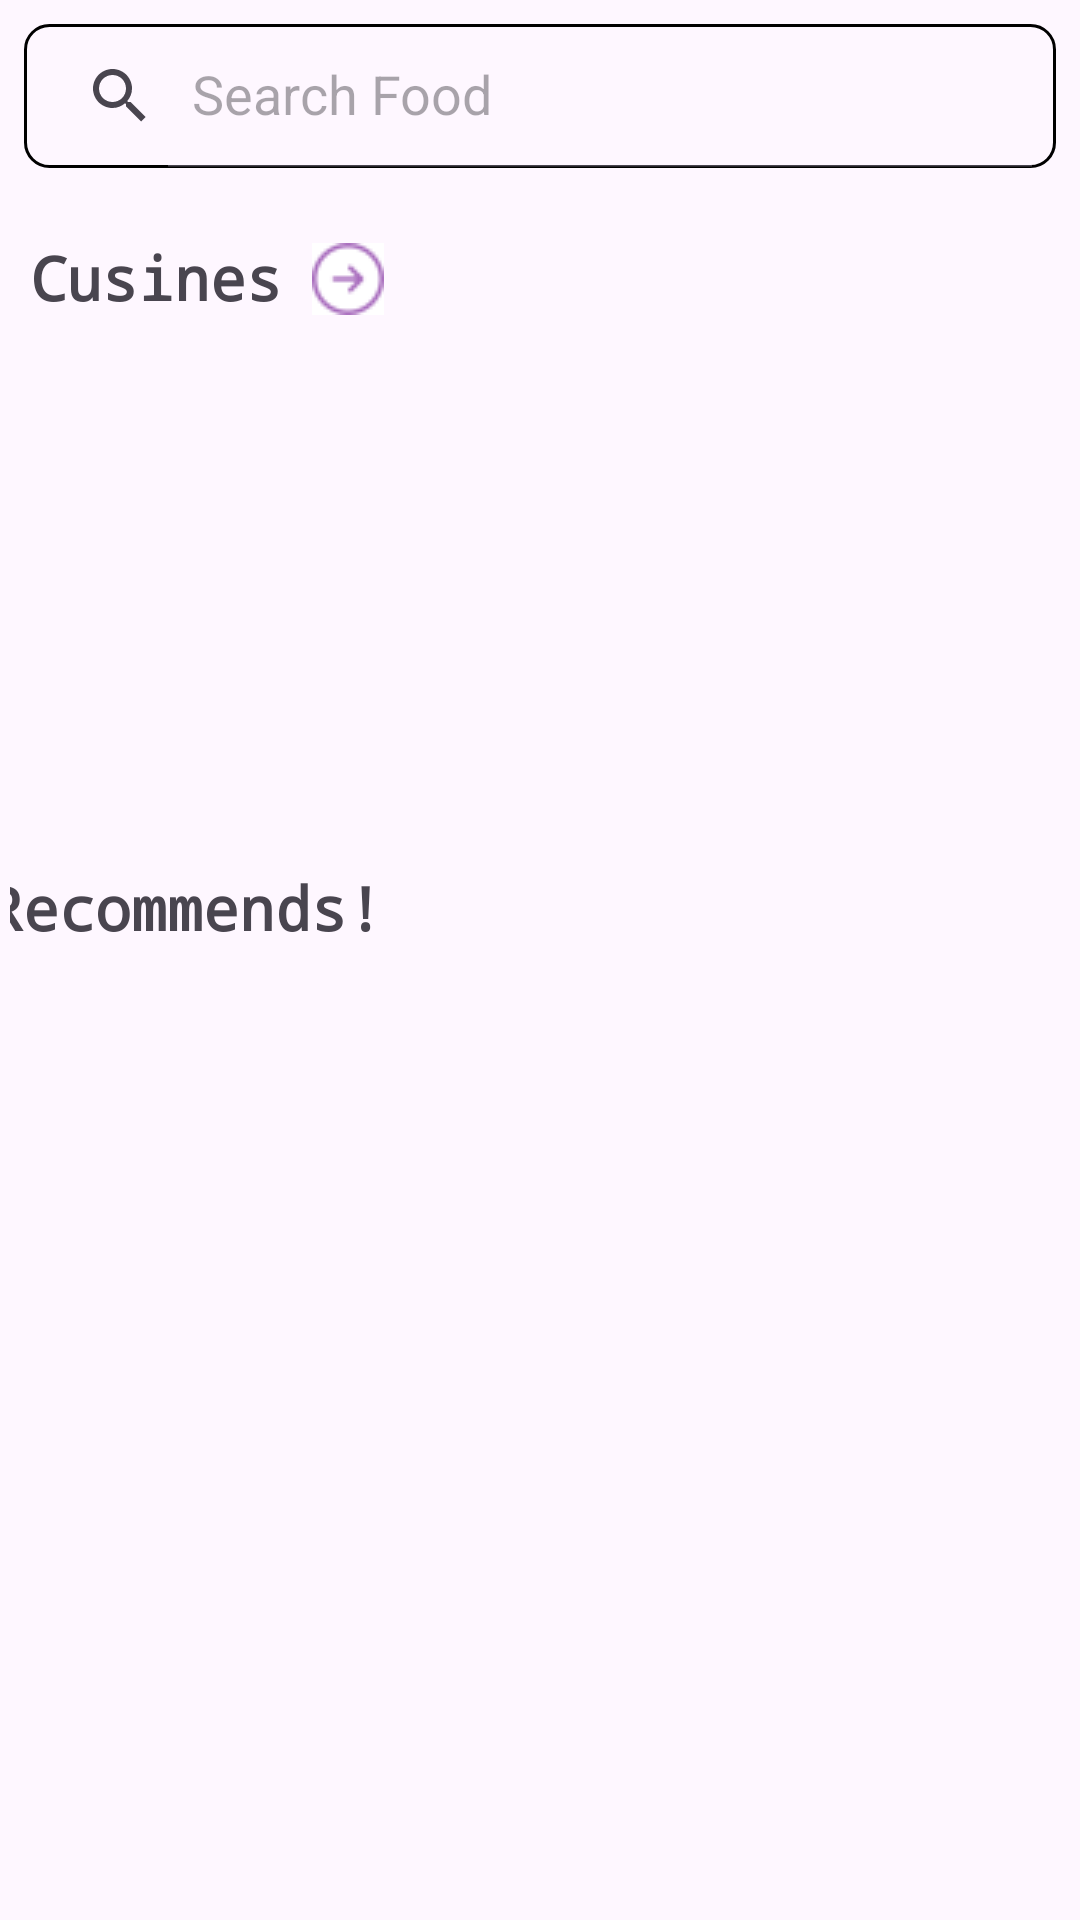

Icons on this 1080x1920 Android screen, each with its box as bbox(x1, y1, x2, y2):
arrow: bbox(312, 243, 384, 315)
